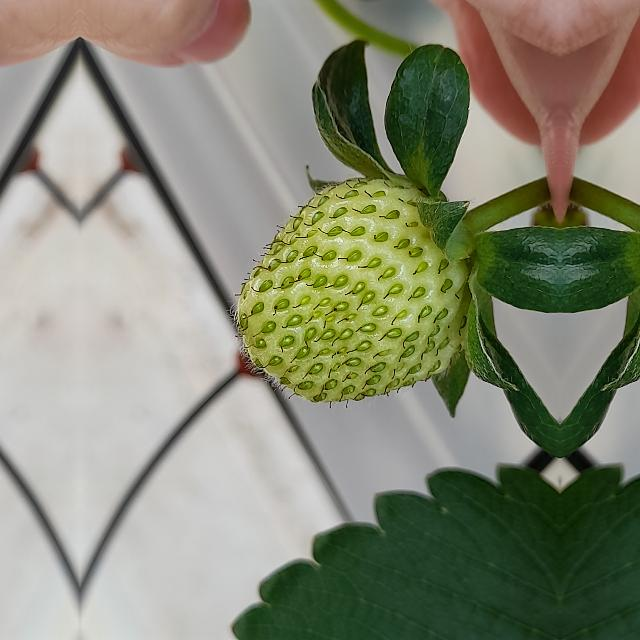Health_25: (225, 176, 469, 408)
